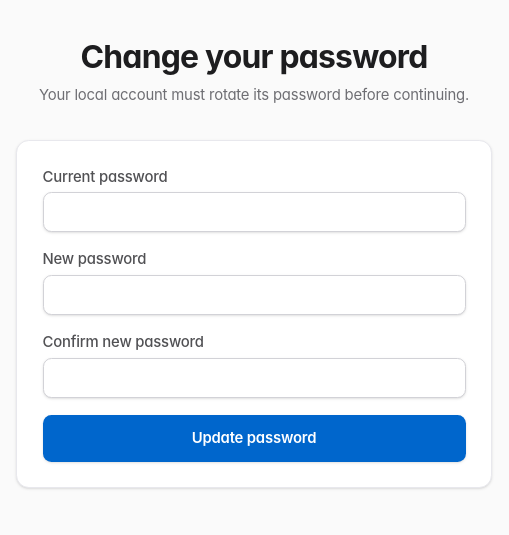
Test case: change-password page › blocks submission when confirmation does not match
Type "current-pass" into the password field labelled "Current password" at (254, 212), box [42, 192, 466, 232]
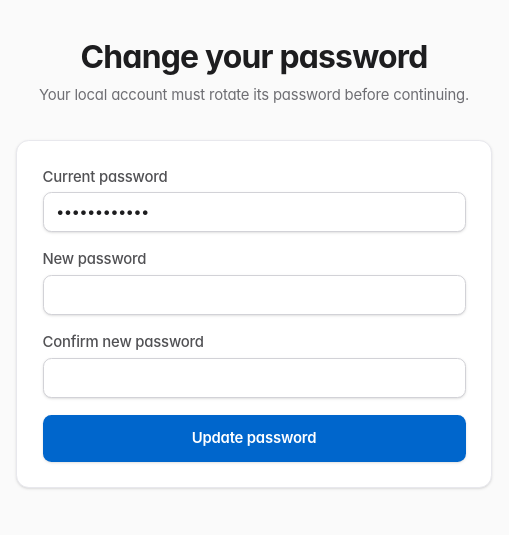
Type "a-strong-new-passw0rd!" into the password field labelled "New password" at (254, 295), box [42, 275, 466, 315]
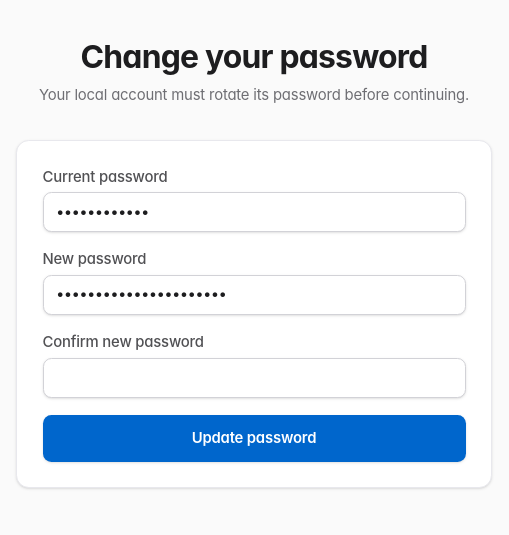
Type "mismatched-passw0rd!" into the password field labelled "Confirm new password" at (254, 378), box [42, 358, 466, 398]
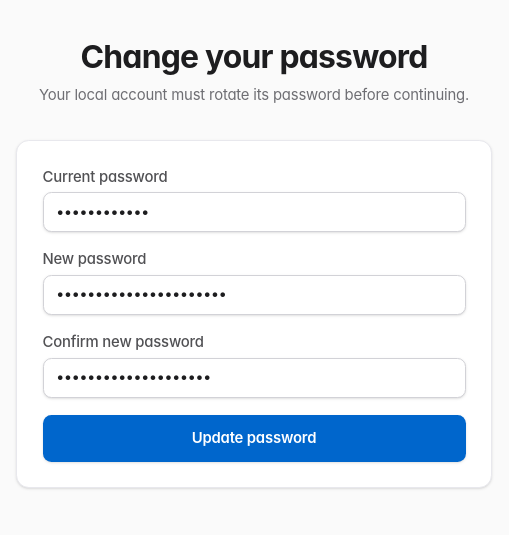
Click the button "Update password" at (254, 438), box [42, 415, 466, 462]
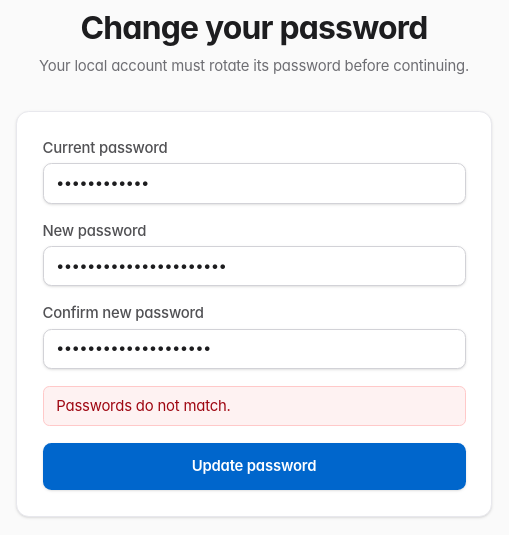
Check: the message shows "Passwords do not match", box [56, 397, 231, 415]
